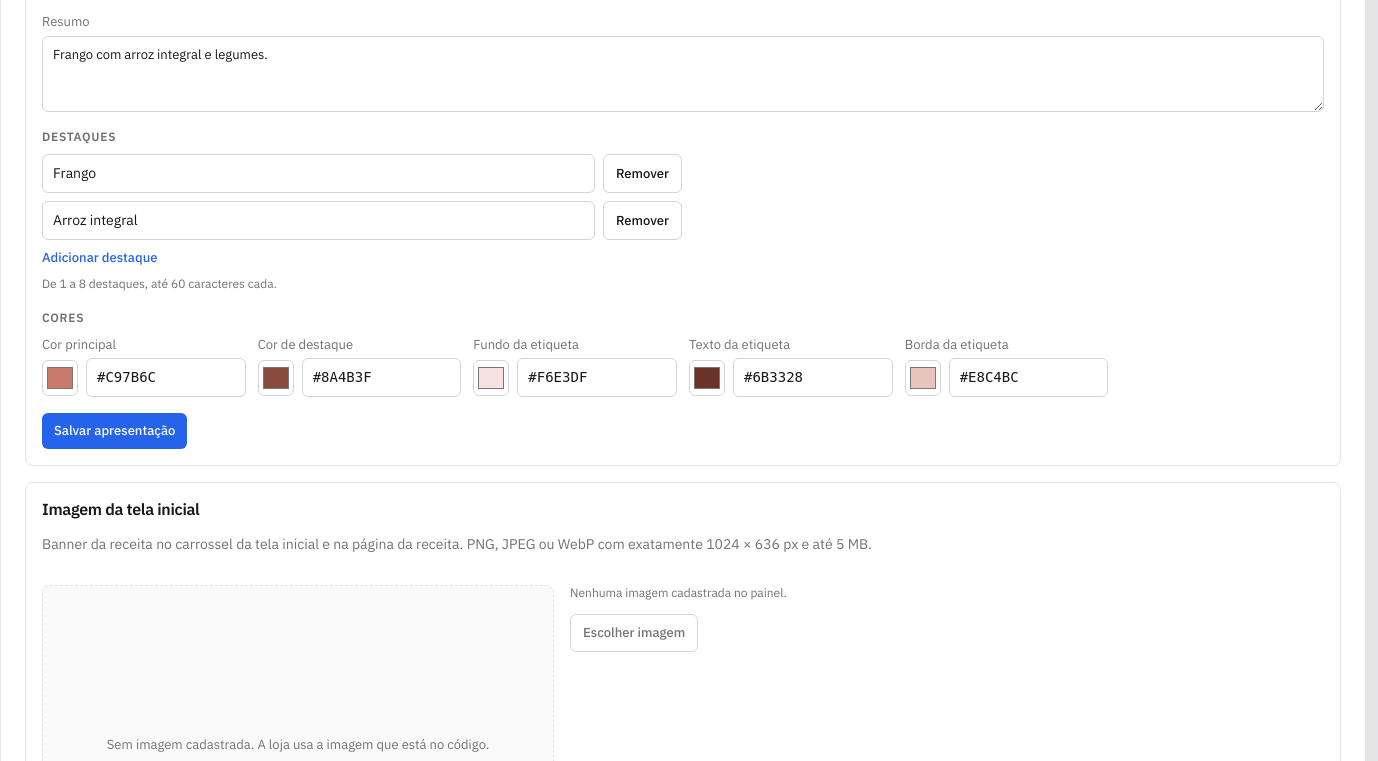
Test: RecipeContentPage › store presentation › marks the fields the API refuses and keeps what was typed
(page scrolled)
Replace the text in the field labelled "Fundo da etiqueta" with "red" at {"x": 597, "y": 378}, box [517,358,677,397]
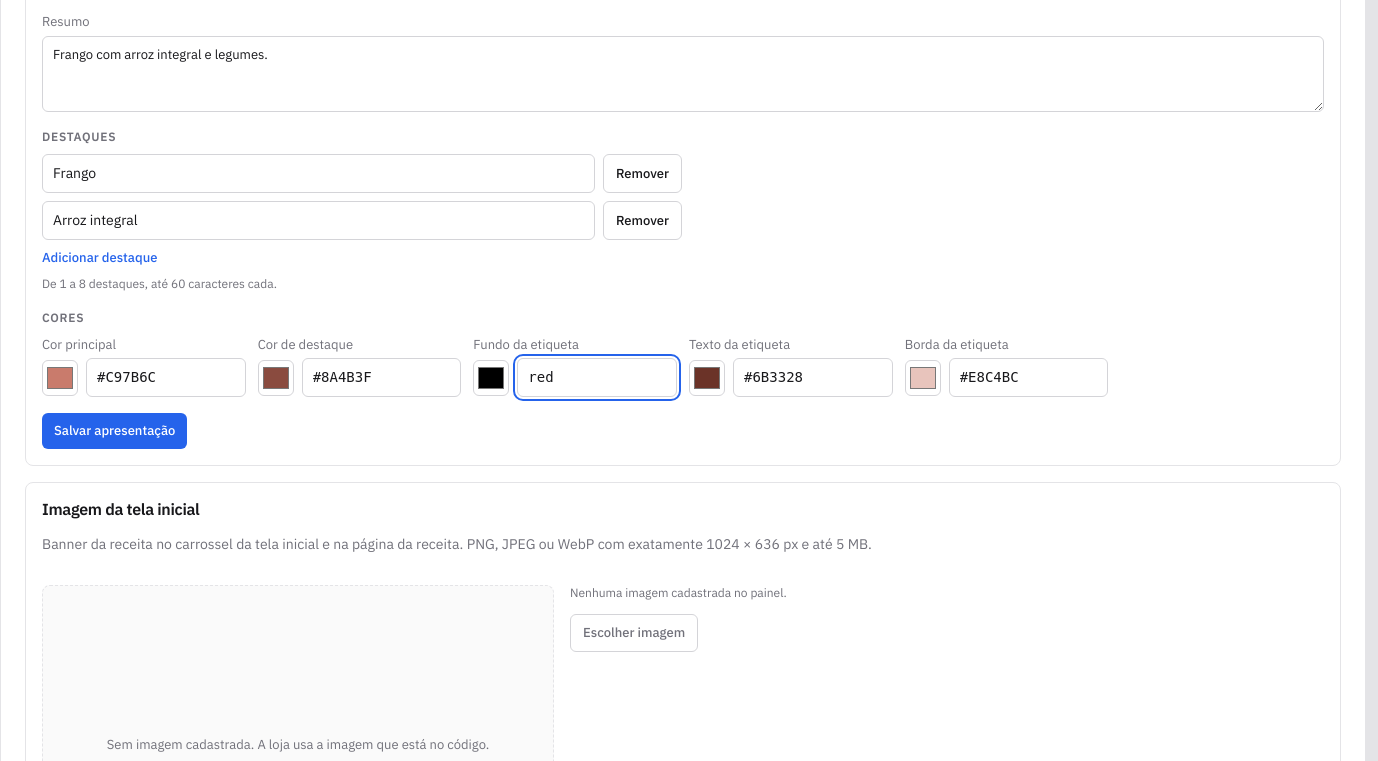
Click the button "Salvar apresentação" at {"x": 115, "y": 431}, box [42,413,187,449]
(page scrolled)
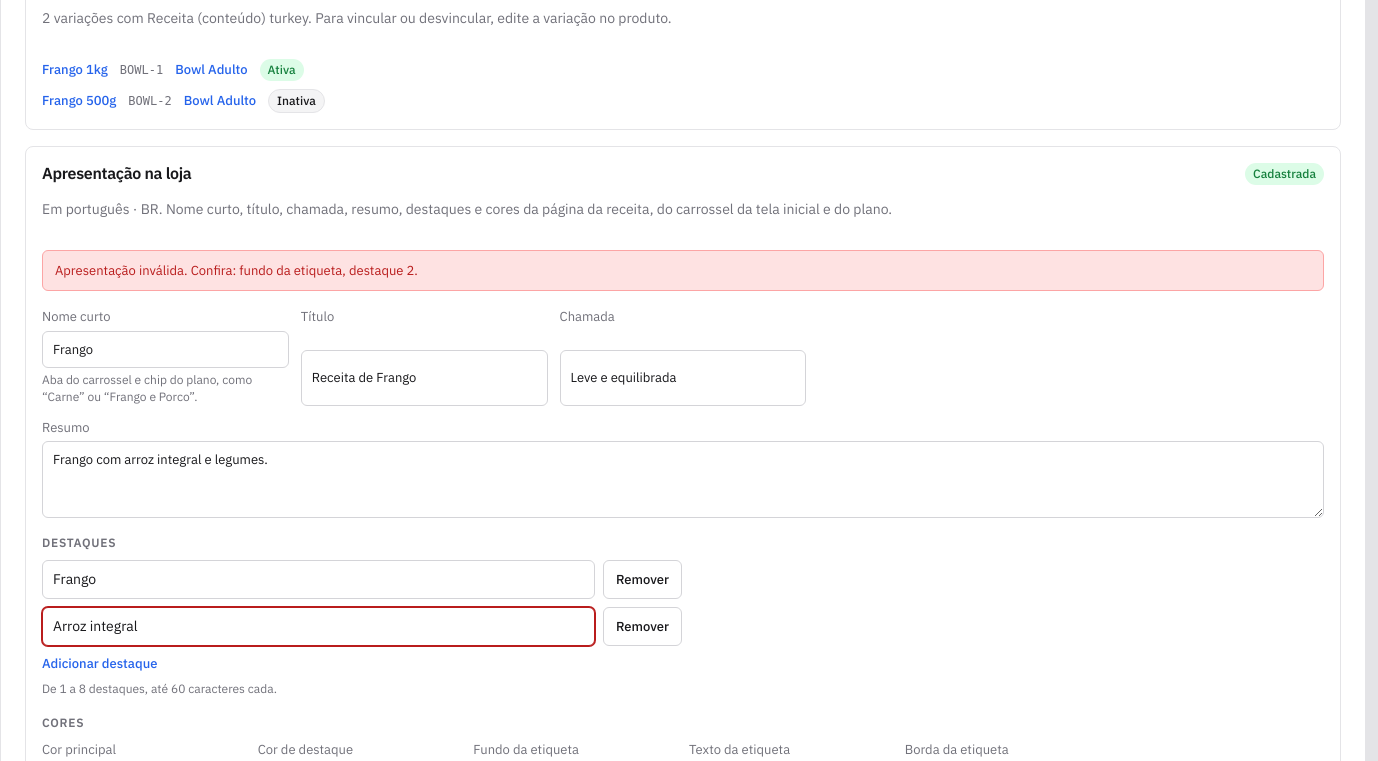
expect the message reads "Apresentação inválida. Confira: fundo da etiqueta, destaque 2.": met, box [55,262,418,279]
